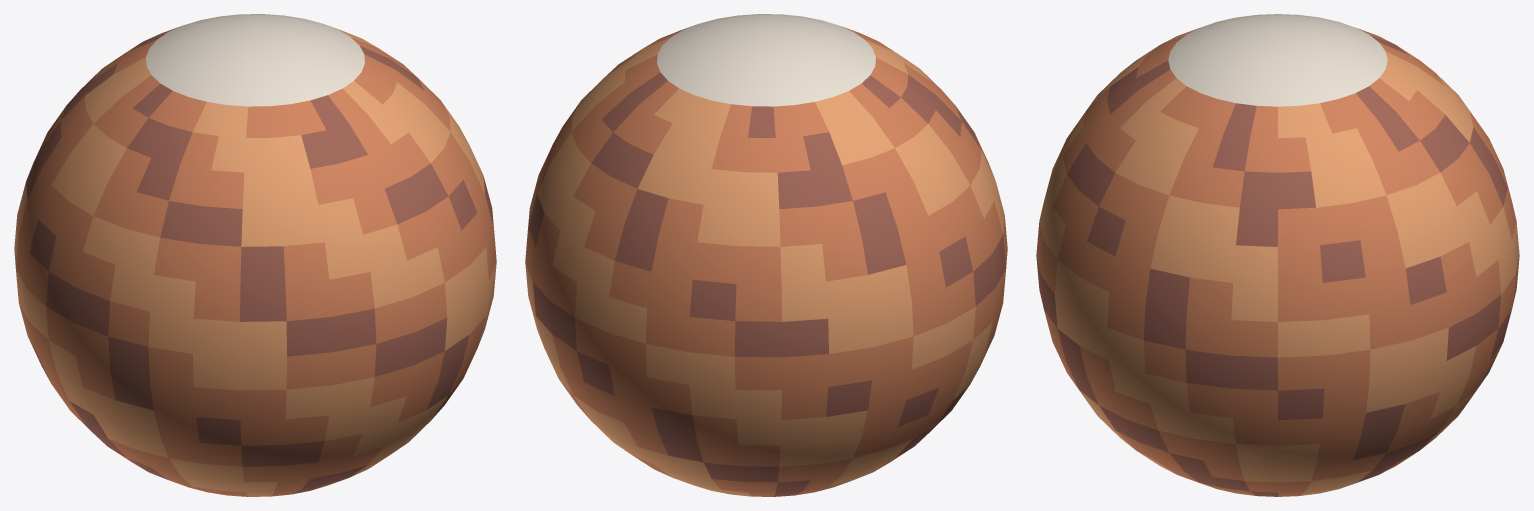
The model's file is mars.glb.
The picture shows the model from 3 angles, left to right: view 1: azimuth 30°, elevation 25°; view 2: azimuth 150°, elevation 25°; view 3: azimuth 270°, elevation 25°; orthographic projection.
Parts seen in each view (by area): view 1: Mars; view 2: Mars; view 3: Mars.
Boxes of the visible parts, bbox=[...] form: Mars: bbox=[14, 14, 496, 496]; Mars: bbox=[525, 14, 1007, 496]; Mars: bbox=[1036, 14, 1519, 496].
Size of the model in its own units: 2 by 2 by 2.
